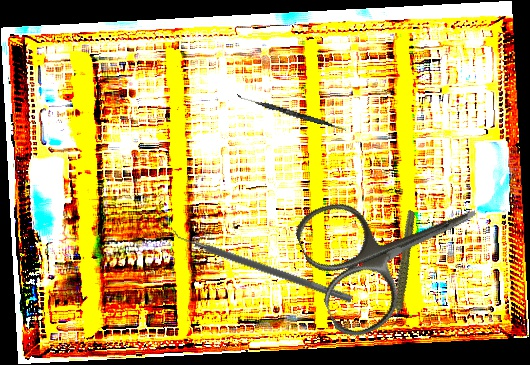Handpiece: (365, 209, 439, 328)
Iris Scissors: (289, 152, 503, 344)
Spatula Surgical: (166, 224, 356, 304), (235, 94, 348, 132)
